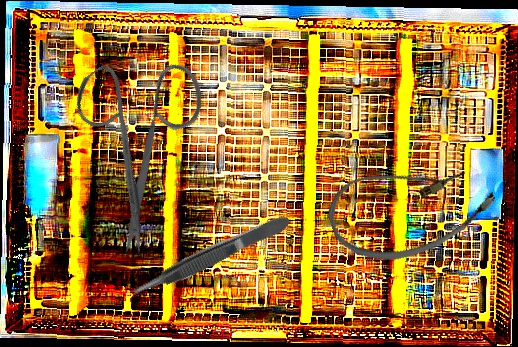Cannula: (319, 135, 504, 280)
Iris Scissors: (28, 25, 260, 260)
Tissue Forceps: (126, 212, 294, 303)
